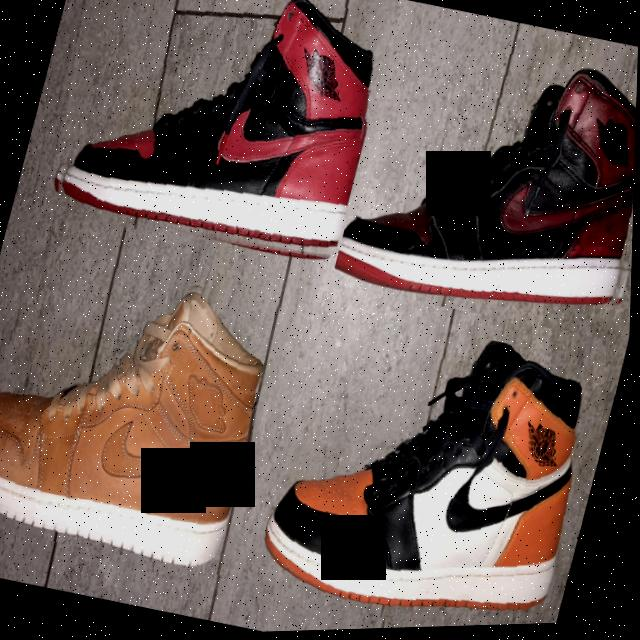shoe: (250, 300, 620, 634), (330, 16, 639, 352), (0, 234, 298, 582), (41, 0, 396, 282)
